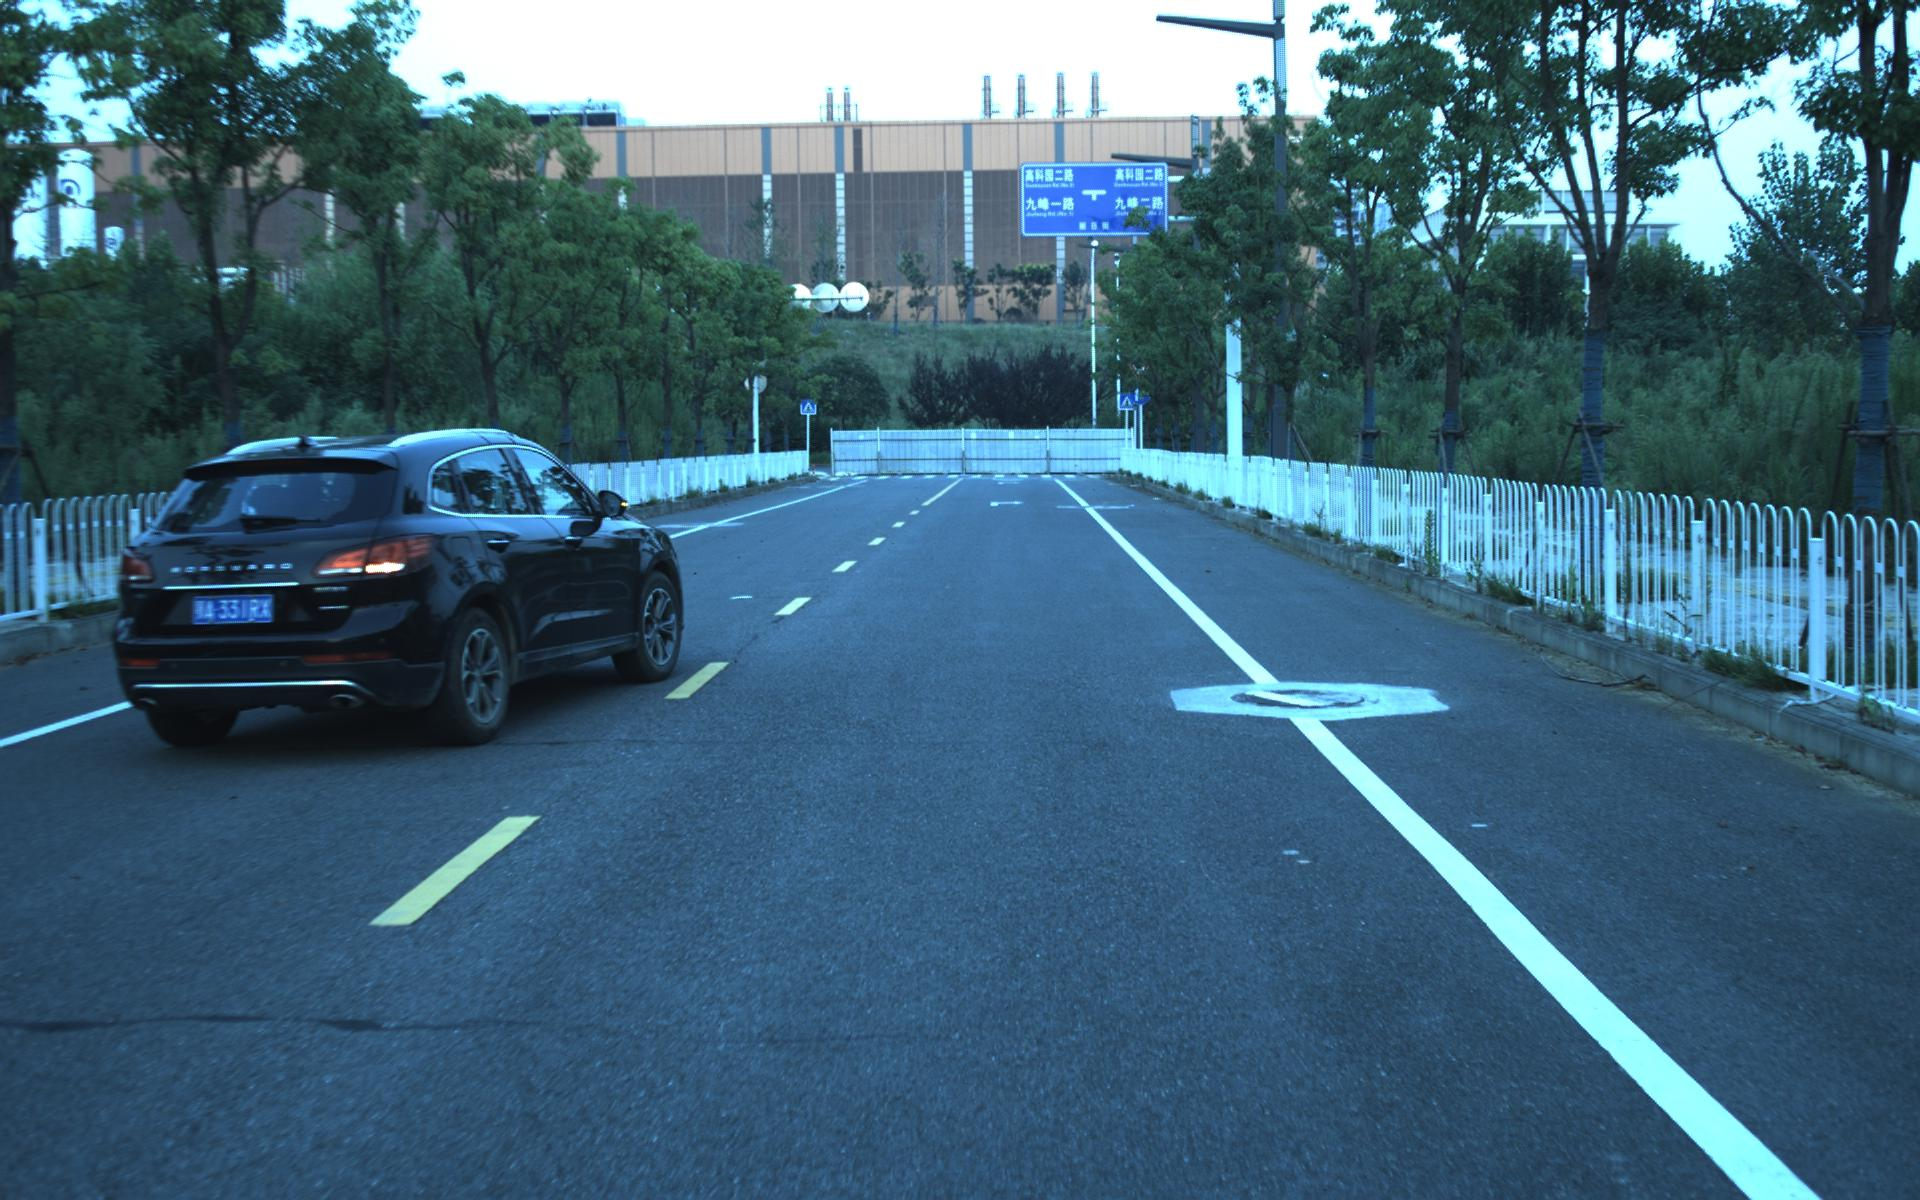Car: (90, 412, 681, 758)
